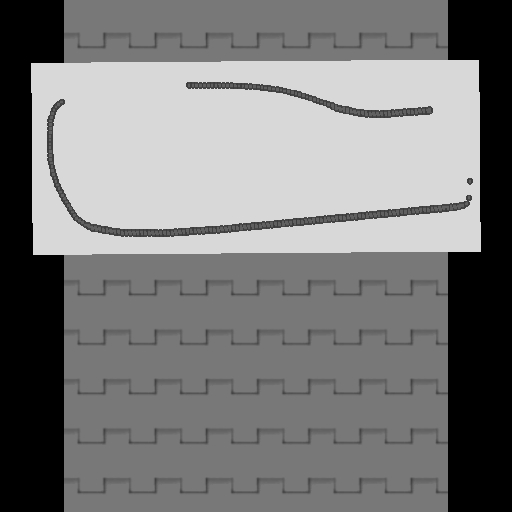Defect: (60, 76, 186, 110)
